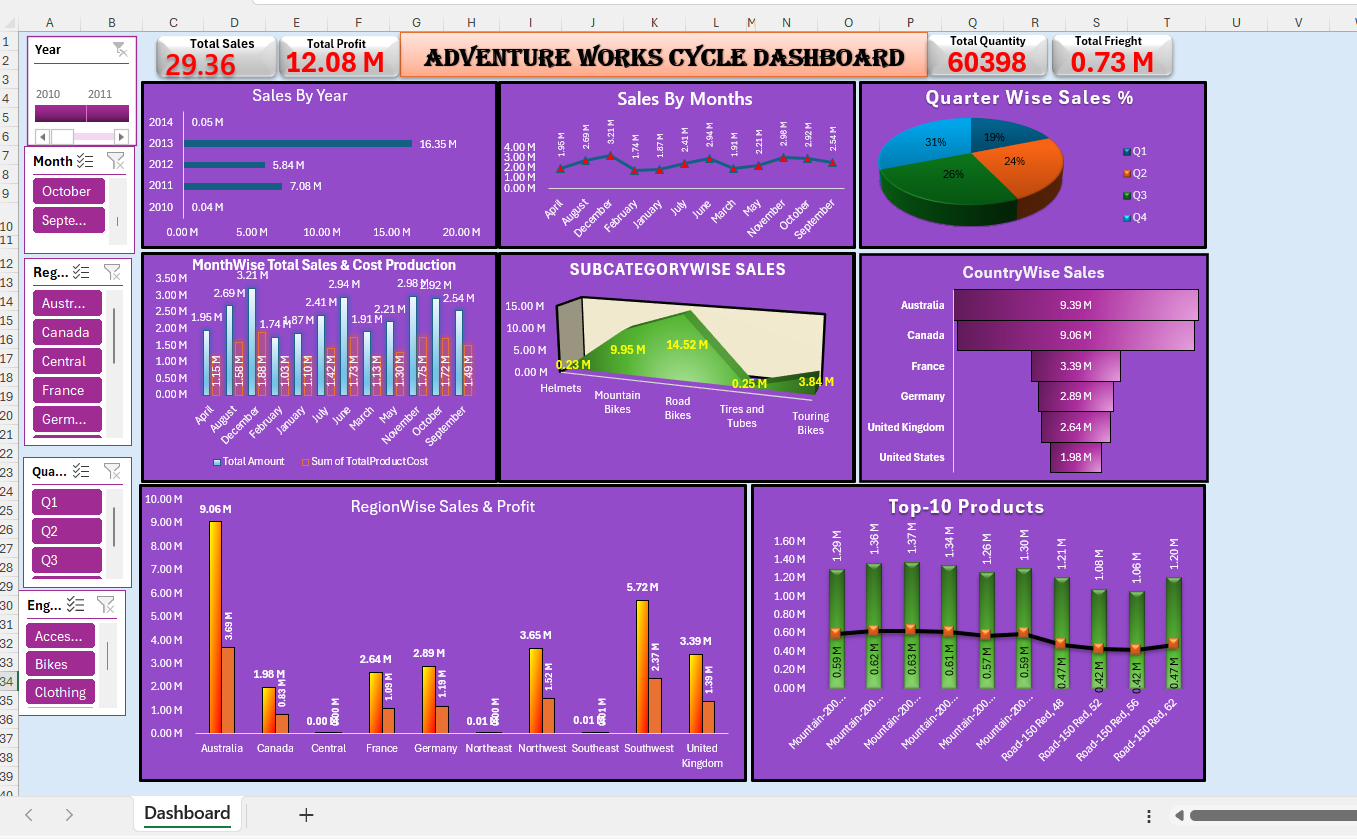

What the dashboard file says about the page in this screenshot:
{"tool":"powerbi","page":{"name":"SALES","canvas":[1280,720],"ordinal":0},"visuals":[{"type":"barChart","title":"Sales By Year","fields":{"Category":["Sales.Order Date.Variation.Date Hierarchy.Year"],"Y":["Sum(Sales.SalesAmount)"]},"box":[153.9,186.3,362.5,255.2],"z":0},{"type":"lineChart","title":"Sales by Month","fields":{"Y":["Sum(Sales.SalesAmount)"],"Category":["Sales.OrderDate.Variation.Date Hierarchy.Month"]},"box":[523.7,187.1,422.9,253.7],"z":1000},{"type":"pieChart","fields":{"Y":["Sum(Sales.SalesAmount)"],"Category":["Sales.Quarter"]},"box":[958,187.1,300.9,253.7],"z":2000},{"type":"lineStackedColumnComboChart","title":"Monthwise Sales & Production Cost","fields":{"Y":["Sum(Sales.Sales Amount)"],"Y2":["Sum(Sales.ProductionCost)"],"Category":["Sales.Order Date.Variation.Date Hierarchy.Month"]},"box":[154.5,453.8,580.7,255.4],"z":3000},{"type":"treemap","title":"Sales By Country","fields":{"Group":["DimSalesTerritory.SalesTerritoryCountry"],"Values":["Sum(Sales.SalesAmount)"]},"box":[746.6,453.8,512.4,255.4],"z":4000},{"type":"slicer","title":"Months","fields":{"Values":["Sales.OrderDate.Variation.Date Hierarchy.Month"]},"box":[11.4,453.8,131.8,112.2],"z":5000},{"type":"slicer","title":"Region","fields":{"Values":["DimSalesTerritory.SalesTerritoryRegion"]},"box":[9.8,574.2,135,135],"z":6000},{"type":"slicer","title":"Category","fields":{"Values":["DimProdCategory.EnglishProductCategoryName"]},"box":[958,11.4,138.3,61.8],"z":7000},{"type":"slicer","title":"Subcategory","fields":{"Values":["DimProdSubCategory.EnglishProductSubcategoryName"]},"box":[1109.3,11.4,151.3,61.8],"z":8000},{"type":"image","title":"Sales","box":[11.4,86.2,135,91.1],"z":9000},{"type":"image","title":"Customer","box":[13,187.1,135,81.3],"z":10000},{"type":"image","title":"Product","box":[13,281.4,135,78.1],"z":11000},{"type":"slicer","title":"Year","fields":{"Values":["Sales.Year"]},"box":[13,370.9,131.8,69.9],"z":12000},{"type":"cardVisual","fields":{"Data":["Sum(Sales.Sales Amount)","Sum(Sales.Profit)","Sum(Sales.OrderQuantity)","Count(Sales.CustomerFullName)","CountNonNull(DimProduct.Total Products)"]},"box":[162,79,1097.7,97.2],"z":13000},{"type":"shape","box":[13,8.1,936.9,69.9],"z":14000},{"type":"textbox","box":[74.8,11.4,884.8,74.8],"z":15000},{"type":"image","box":[13,13,81.3,60.2],"z":16000}]}

Visuals, with their boxes on the page's 1280x720 design canvas (x1, y1, x2, y2). These are canvas units, not pixel positions in the 1357x839 screenshot, which may show the page scaled, cropped or inside an application window:
"Sales By Year" barChart: <box>154,186,516,442</box>
"Sales by Month" lineChart: <box>524,187,947,441</box>
pieChart - Sum(Sales.SalesAmount) x Sales.Quarter: <box>958,187,1259,441</box>
"Monthwise Sales & Production Cost" lineStackedColumnComboChart: <box>154,454,735,709</box>
"Sales By Country" treemap: <box>747,454,1259,709</box>
"Months" slicer: <box>11,454,143,566</box>
"Region" slicer: <box>10,574,145,709</box>
"Category" slicer: <box>958,11,1096,73</box>
"Subcategory" slicer: <box>1109,11,1261,73</box>
"Sales" image: <box>11,86,146,177</box>
"Customer" image: <box>13,187,148,268</box>
"Product" image: <box>13,281,148,360</box>
"Year" slicer: <box>13,371,145,441</box>
cardVisual - Sum(Sales.Sales Amount) x Sum(Sales.Profit): <box>162,79,1260,176</box>
shape: <box>13,8,950,78</box>
textbox: <box>75,11,960,86</box>
image: <box>13,13,94,73</box>
